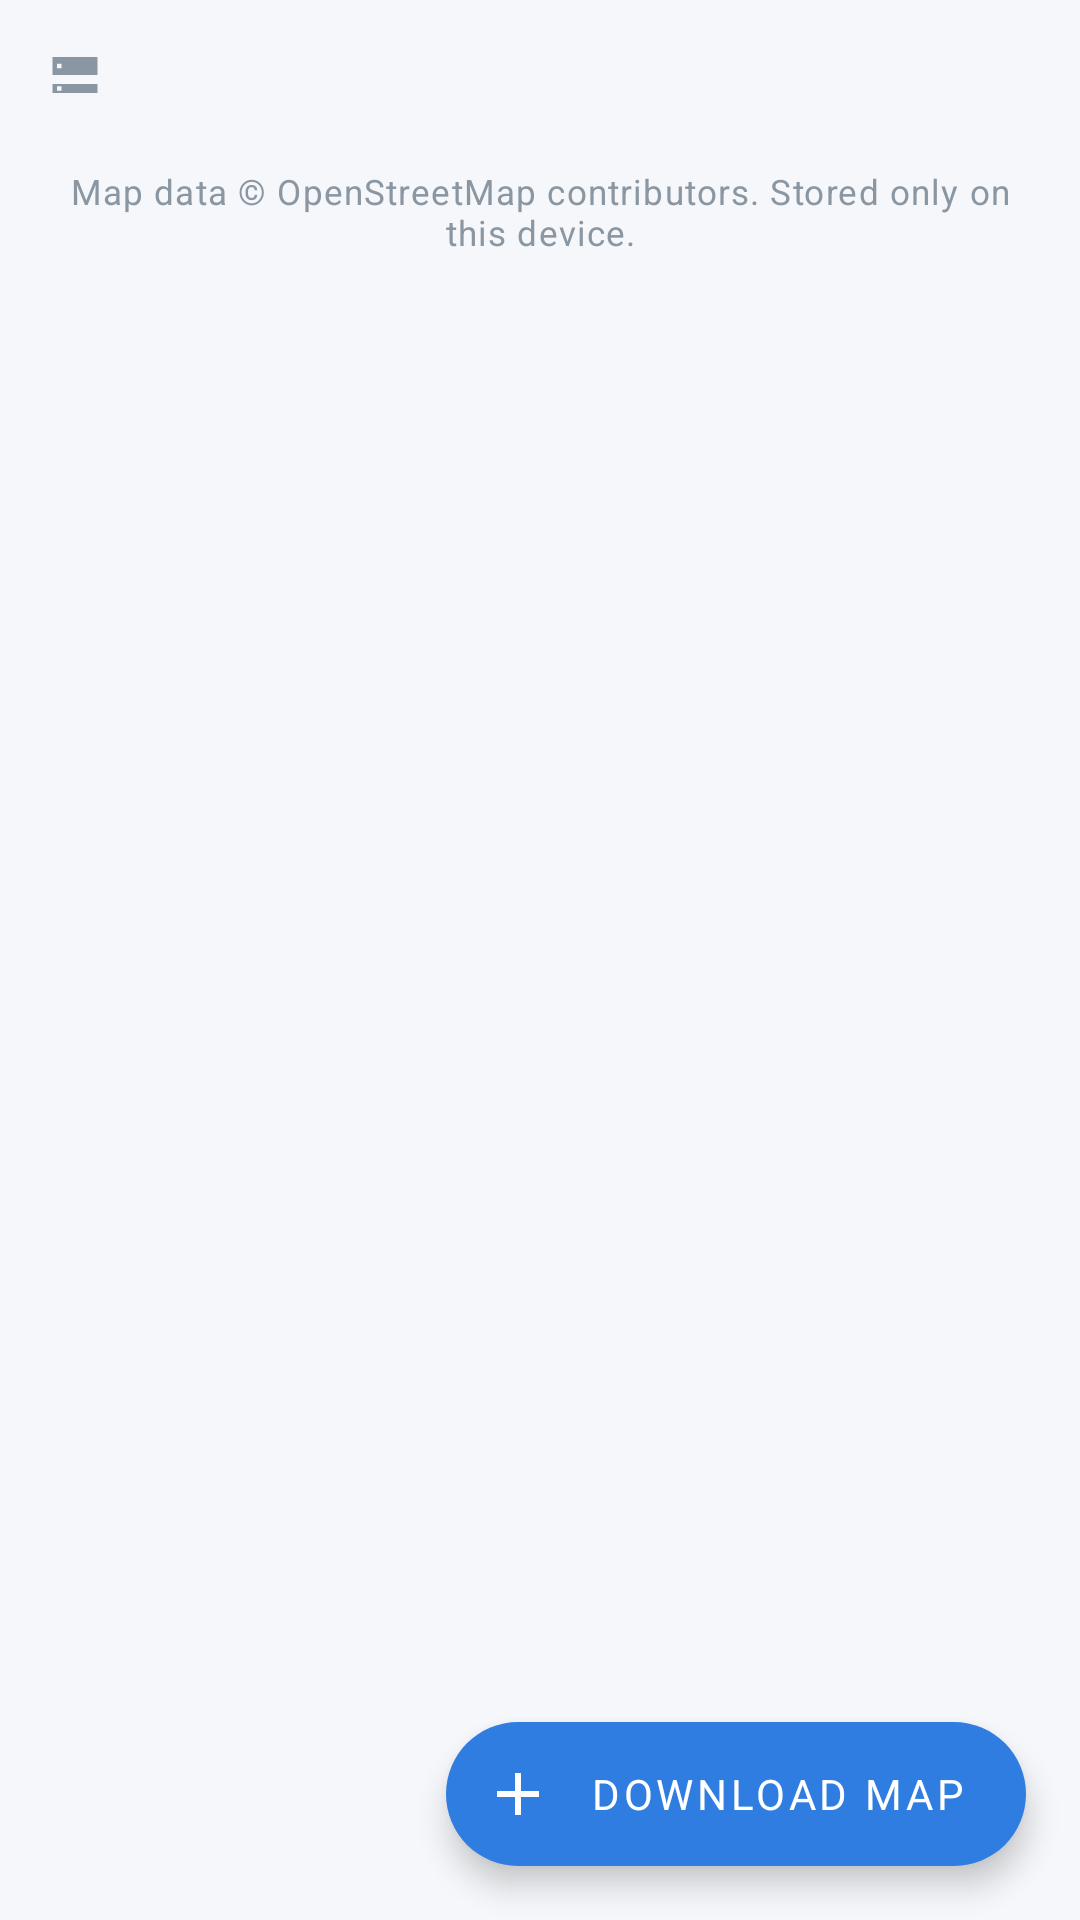

Icon bounding boxes for this 1080px×1920px phone screenshot, format (x1, y1, x2, y2):
storage: (52, 57, 98, 93)
